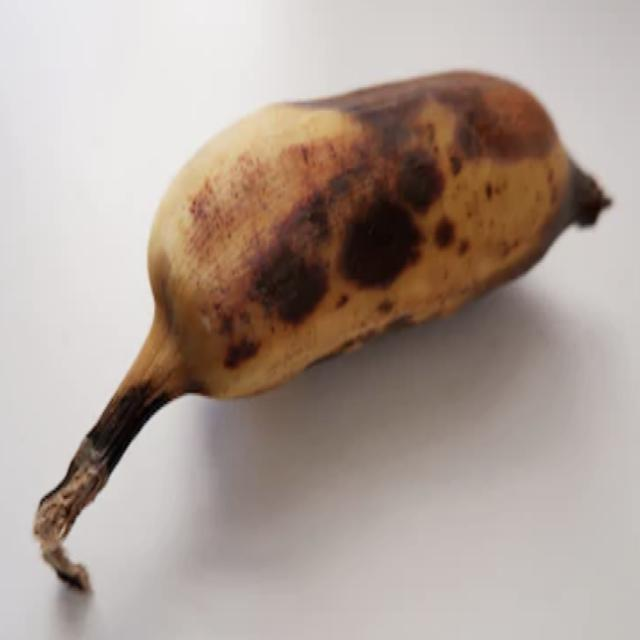Rotten: (37, 45, 619, 596)
